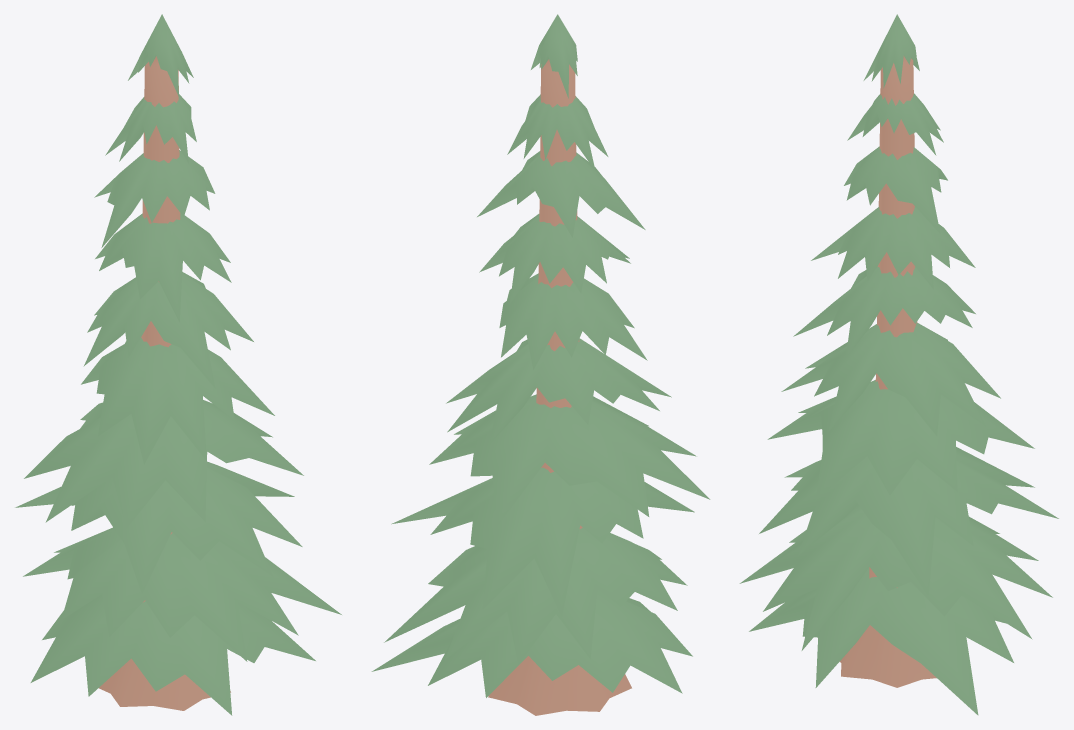
File: Blender_RedCedar_1_Far.glb
3 renders of one model, left to right at view 1: azimuth 30°, elevation 25°; view 2: azimuth 150°, elevation 25°; view 3: azimuth 270°, elevation 25°, orthographic. The views are drawn at different scales.
Visible parts, largest first — view 1: Blender_RedCedar_1_Far; view 2: Blender_RedCedar_1_Far; view 3: Blender_RedCedar_1_Far.
Part boxes in pixels (box(x1,y1,x2,y2)): Blender_RedCedar_1_Far: box(15, 14, 341, 715); Blender_RedCedar_1_Far: box(371, 14, 710, 715); Blender_RedCedar_1_Far: box(739, 14, 1058, 715).
Size of the model in its own units: 21.62 by 48.54 by 21.92.
